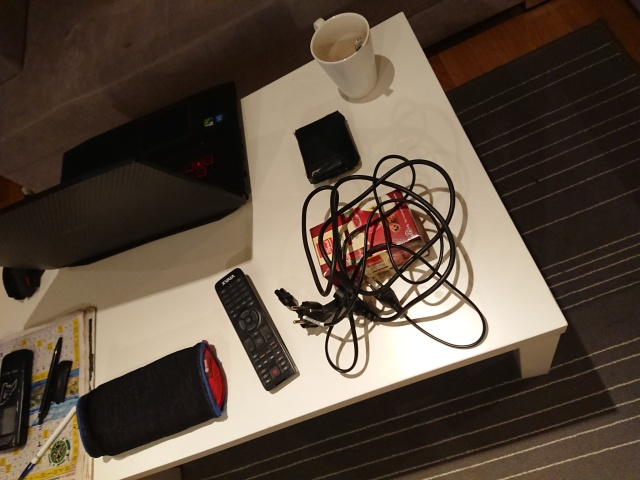Franck Apple Cinnamon Tea 60g: (307, 186, 432, 292)
